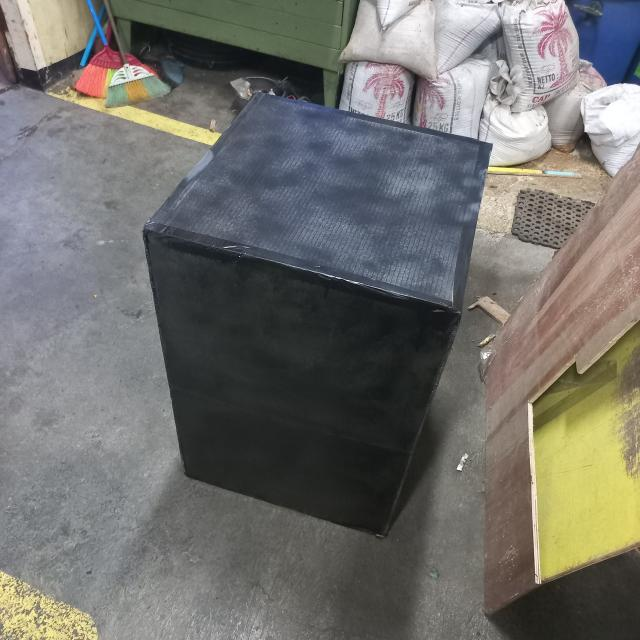obstacle: (140, 89, 496, 542)
